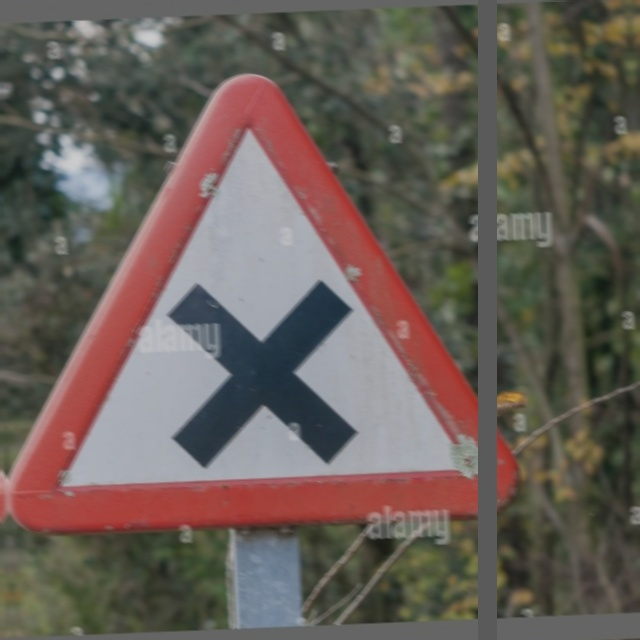Cross_Road: (8, 72, 513, 529)
